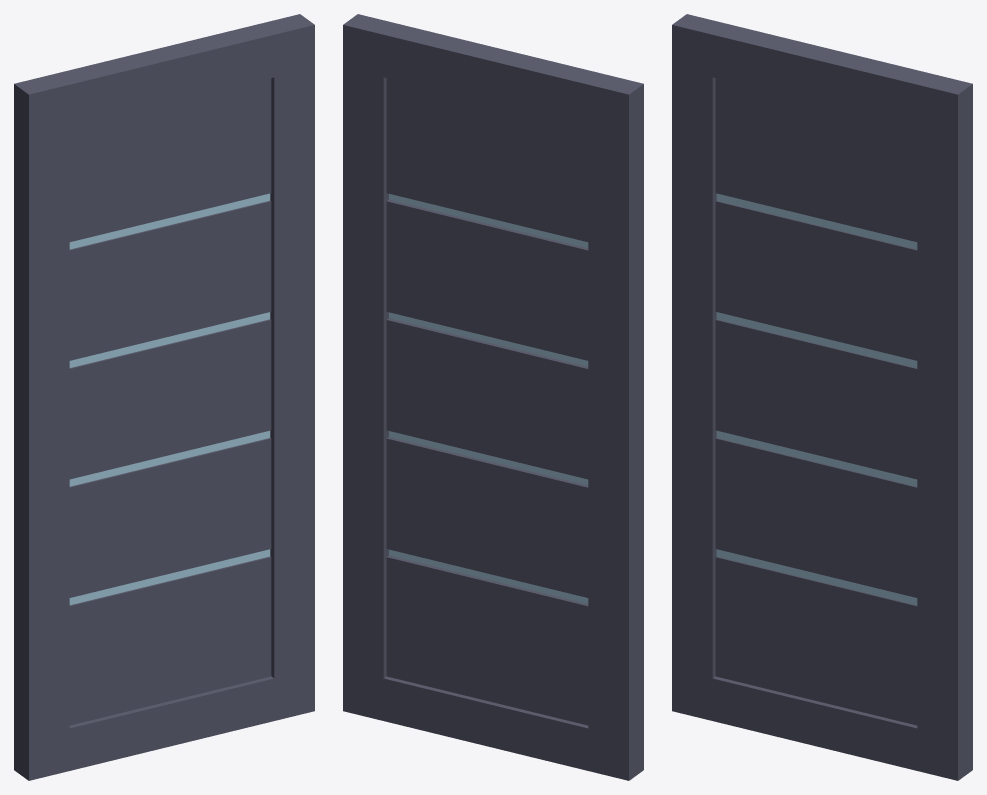
The model's file is Door4_C4.fbx.
3 views of the same model, side by side, from view 1: azimuth 30°, elevation 25°; view 2: azimuth 150°, elevation 25°; view 3: azimuth 330°, elevation 25° (orthographic).
Parts seen in each view (by area): view 1: Door4_C4; view 2: Door4_C4; view 3: Door4_C4.
Boxes of the visible parts, left/top/right/bottom form: Door4_C4: left=14, top=14, right=314, bottom=780; Door4_C4: left=343, top=14, right=643, bottom=780; Door4_C4: left=672, top=14, right=972, bottom=780.
Bounding box in the file's own units: 0.89 × 2.04 × 0.08.
